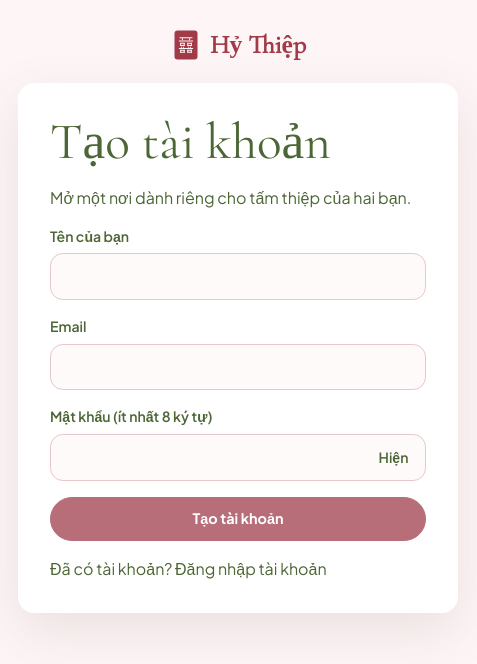
Test case: authentication UI › validates registration fields in order
Click the button "Tạo tài khoản" at [238, 519], box [50,497,426,542]
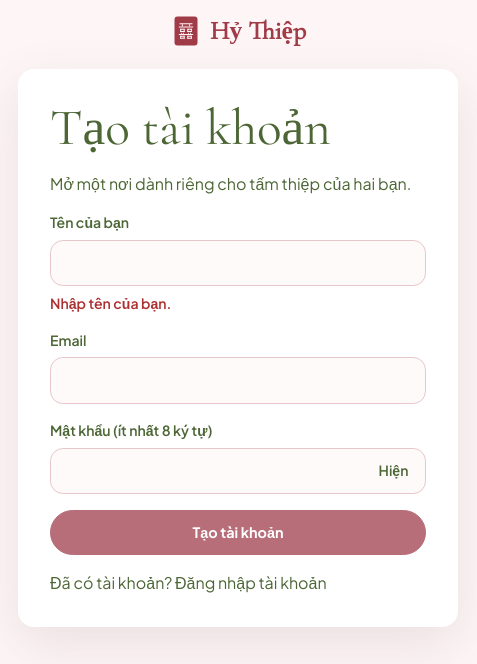
expect the message shows "tên": met, box [50,294,171,312]
Type "Lan" into the field labelled "Tên của bạn" at [238, 263], box [50,240,426,286]
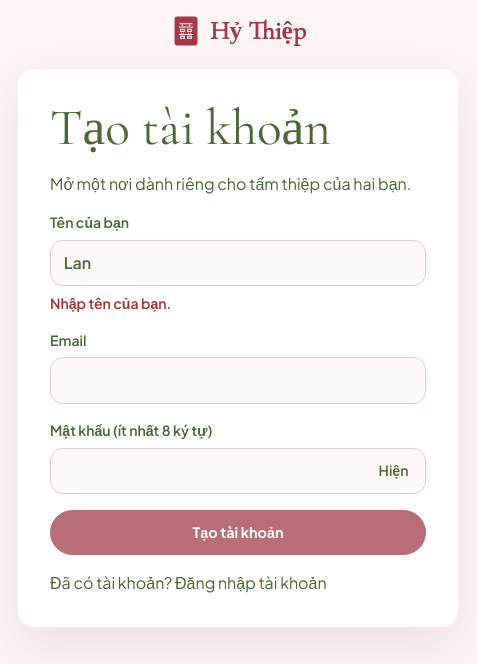
Click the button "Tạo tài khoản" at [238, 533], box [50,510,426,555]
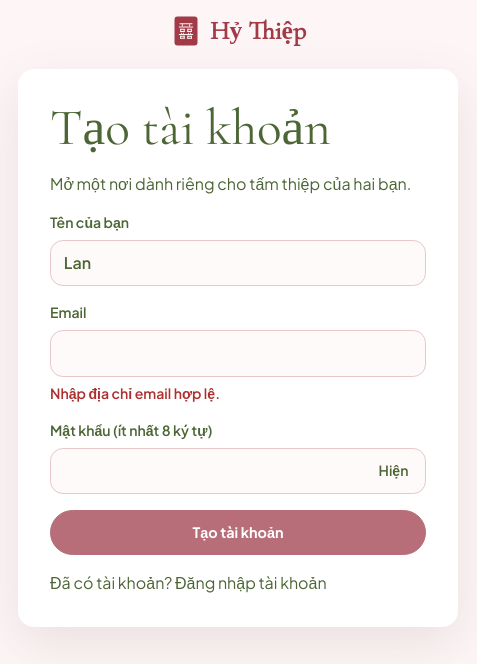
expect the message shows "email": met, box [50,384,220,402]
Type "lan@test.vn" into the field labelled "Email" at [238, 353], box [50,330,426,377]
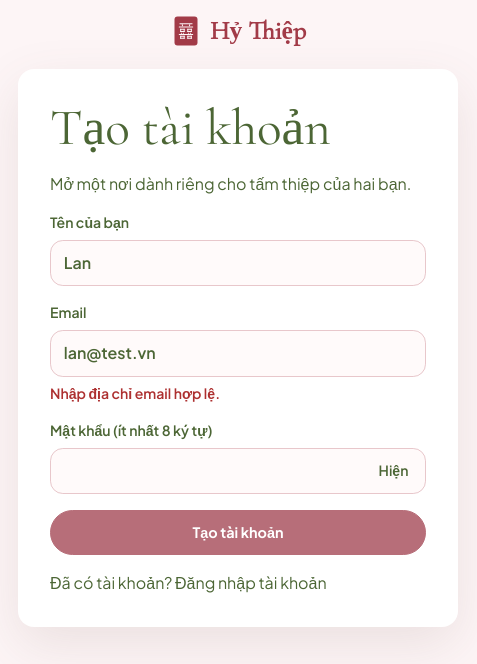
Click the button "Tạo tài khoản" at [238, 533], box [50,510,426,555]
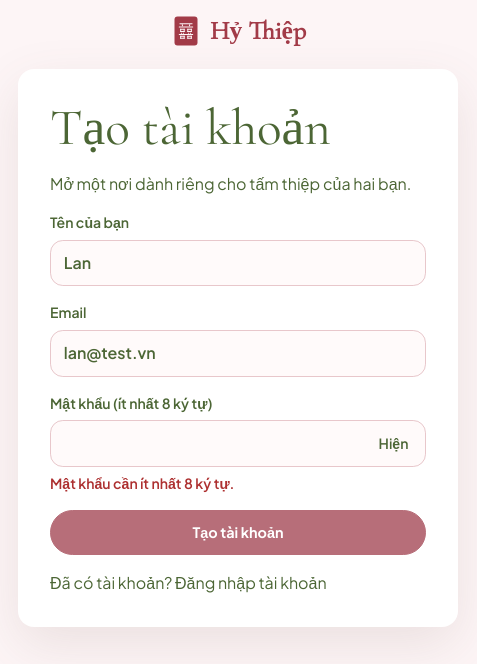
expect the message shows "8 ký tự": met, box [50,474,234,492]
